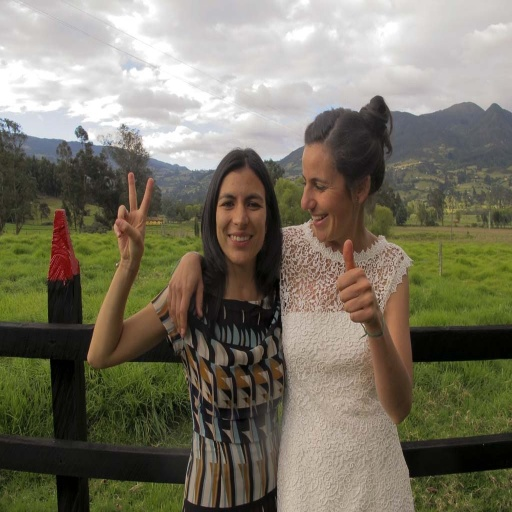hand: (335, 238, 380, 326), (106, 180, 149, 262), (167, 252, 204, 338)
